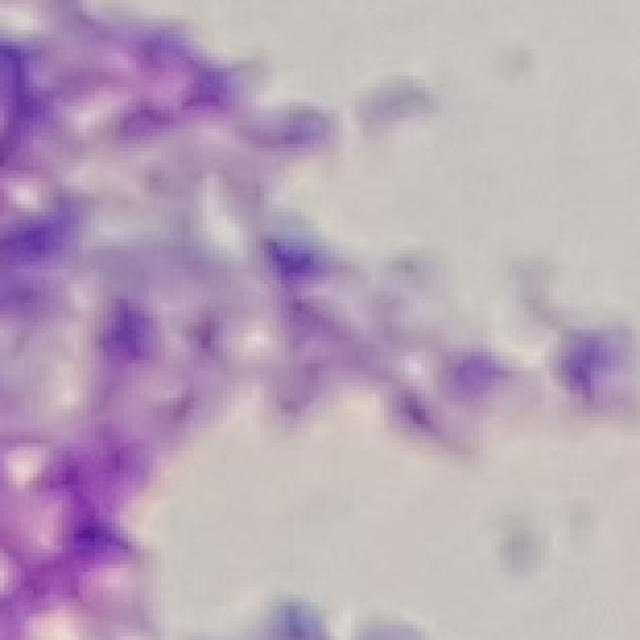non-sperm: (87, 226, 507, 439)
